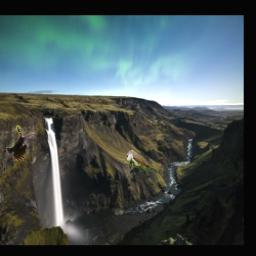Crow: (5, 125, 35, 161)
Cuckoo: (126, 150, 158, 172)
